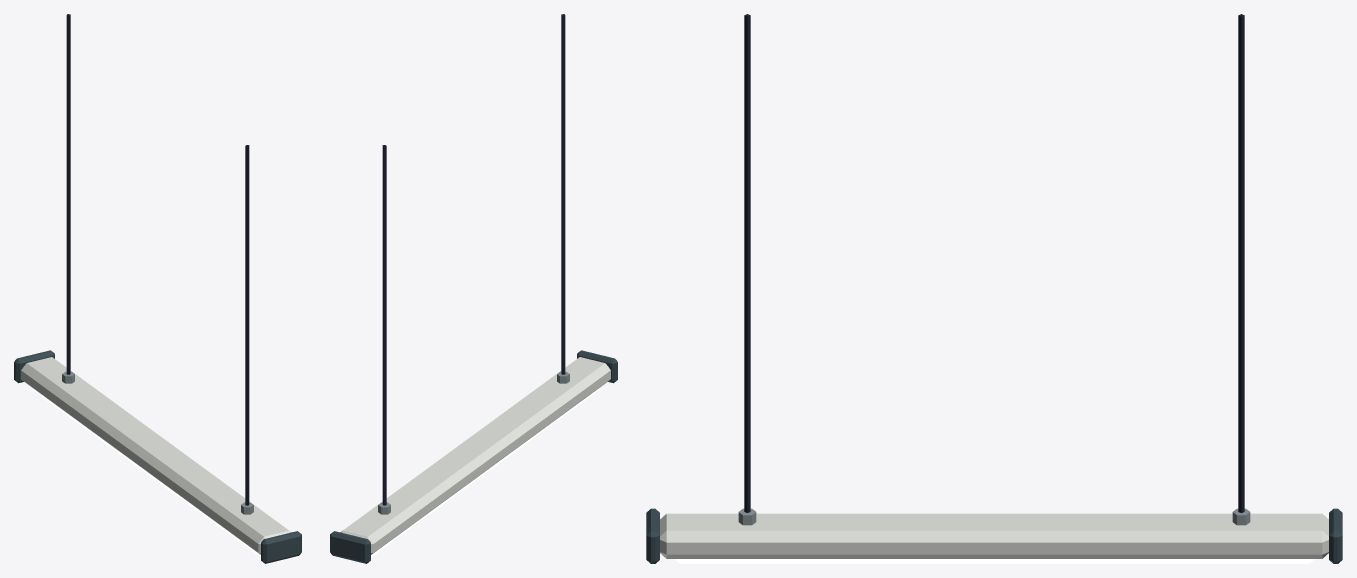
Rendered from sm_env_depot_tube_linear.glb.
3 views of the same model, side by side, from view 1: azimuth 30°, elevation 25°; view 2: azimuth 150°, elevation 25°; view 3: azimuth 270°, elevation 25° (orthographic). The views are drawn at different scales.
Visible parts, largest first — view 1: Body, Cable.001, Cable, EndCap.001, Diffuser, EndCap; view 2: Body, Cable, Cable.001, EndCap, Diffuser, EndCap.001; view 3: Body, Cable, Cable.001, Diffuser.
Part boxes in pixels (x1,y1,x2,y2): Body: (21, 357, 291, 554); Cable.001: (245, 145, 249, 505); Cable: (66, 14, 70, 374); EndCap.001: (261, 531, 301, 563); Diffuser: (31, 387, 260, 556); EndCap: (14, 350, 54, 383); Body: (340, 357, 610, 554); Cable: (382, 145, 386, 505); Cable.001: (561, 14, 565, 374); EndCap: (330, 531, 370, 563); Diffuser: (371, 387, 600, 556); EndCap.001: (577, 350, 617, 383); Body: (660, 513, 1328, 558); Cable: (1238, 14, 1244, 512); Cable.001: (744, 14, 750, 512); Diffuser: (675, 559, 1313, 563).
Size of the model in its own units: 0.14 by 1.33 by 1.55.
